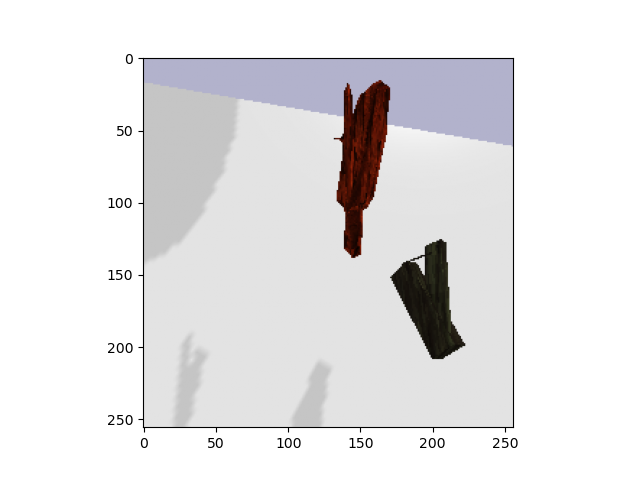v249b387_107: (329, 78, 393, 265)
v249b387_109: (380, 240, 480, 365)
